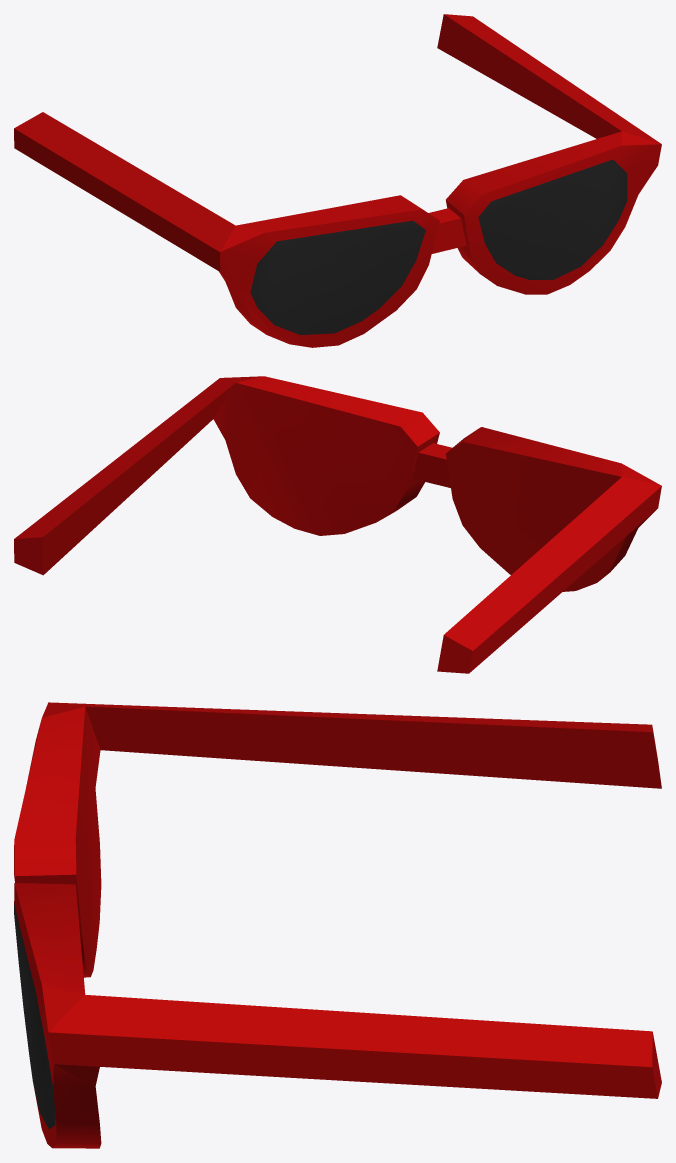
Rendered from Glasses_04.fbx.
3 views of the same model, one above another, from view 1: azimuth 30°, elevation 25°; view 2: azimuth 150°, elevation 25°; view 3: azimuth 270°, elevation 25° (orthographic). The views are drawn at different scales.
Visible parts, largest first — view 1: Glasses_04; view 2: Glasses_04; view 3: Glasses_04.
Boxes of the visible parts, bbox=[...] form: Glasses_04: bbox=[14, 14, 661, 347]; Glasses_04: bbox=[14, 376, 661, 673]; Glasses_04: bbox=[14, 702, 661, 1148].
Size of the model in its own units: 72.74 by 19.86 by 58.15.
